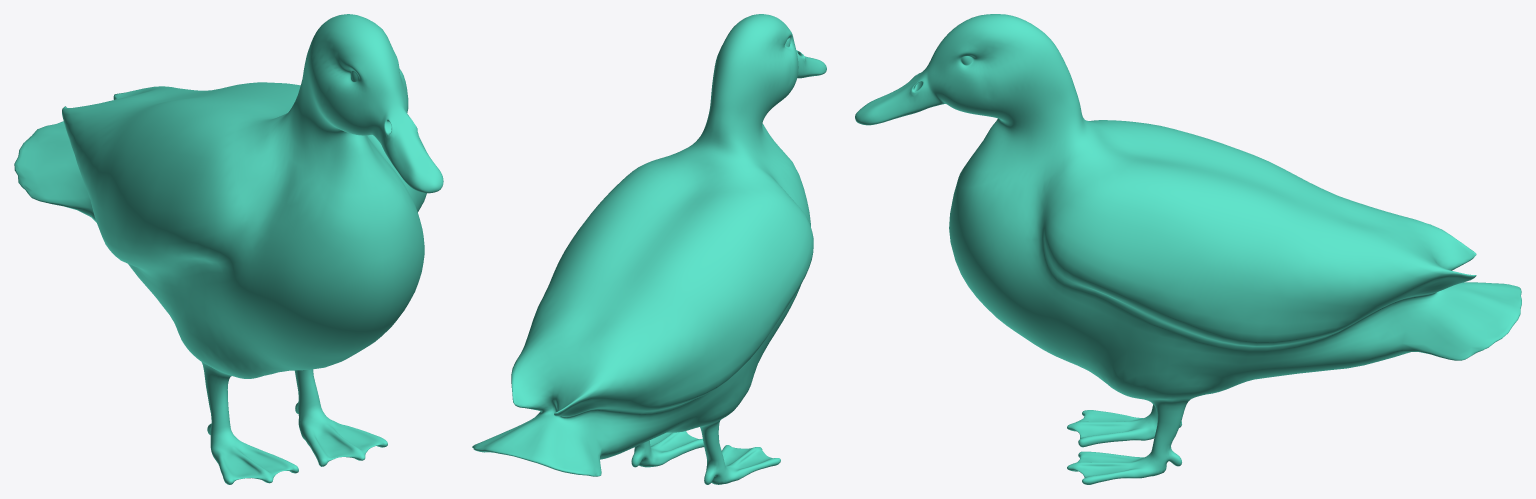
The picture shows the model from 3 angles, left to right: view 1: azimuth 30°, elevation 25°; view 2: azimuth 150°, elevation 25°; view 3: azimuth 270°, elevation 25°; orthographic projection. The views are drawn at different scales.
Visible parts, largest first — view 1: 020_Vray; view 2: 020_Vray; view 3: 020_Vray.
Boxes of the visible parts, x1,y1,x2,y2 form: 020_Vray: (14, 14, 443, 484); 020_Vray: (472, 14, 826, 484); 020_Vray: (855, 14, 1521, 484).
Bounding box in the file's own units: 199 × 382 × 527.
